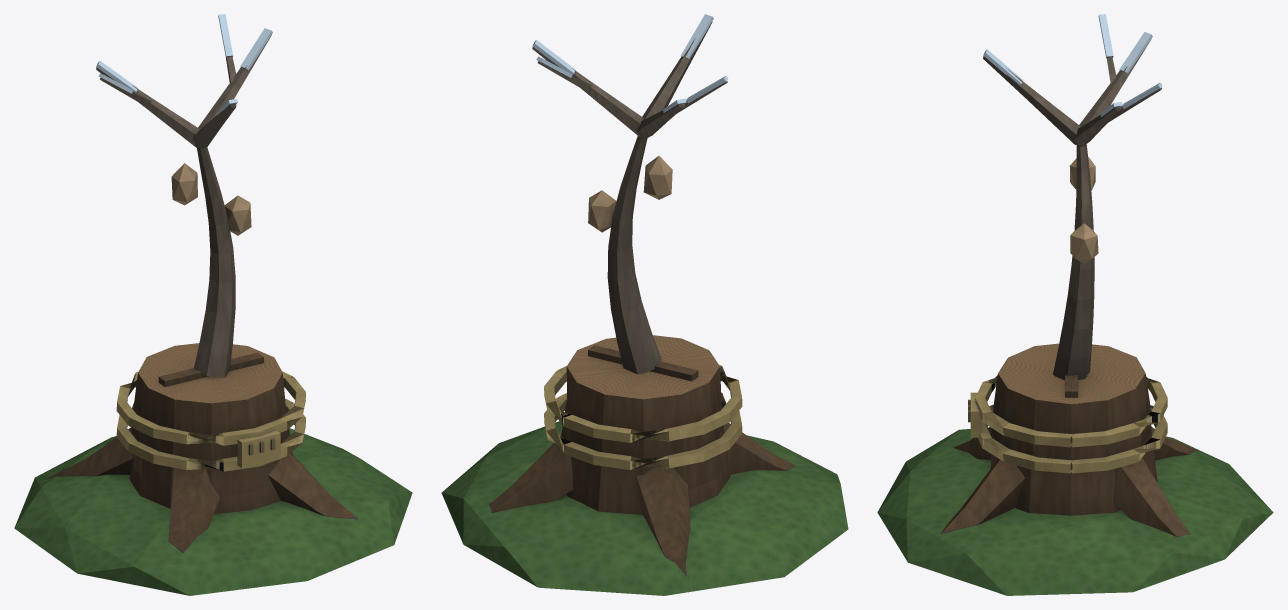
The model's file is BriarGraft_IV.glb.
3 renders of one model, left to right at view 1: azimuth 30°, elevation 25°; view 2: azimuth 150°, elevation 25°; view 3: azimuth 270°, elevation 25°, orthographic. The views are drawn at different scales.
Parts seen in each view (by area): view 1: BriarGraft_IV; view 2: BriarGraft_IV; view 3: BriarGraft_IV.
Boxes of the visible parts, <box> form: BriarGraft_IV: <box>14,14,412,595</box>; BriarGraft_IV: <box>441,14,848,595</box>; BriarGraft_IV: <box>877,14,1273,595</box>.
Bounding box in the file's own units: 1.22 × 1.6 × 1.24.
1 material, 1 textured.
